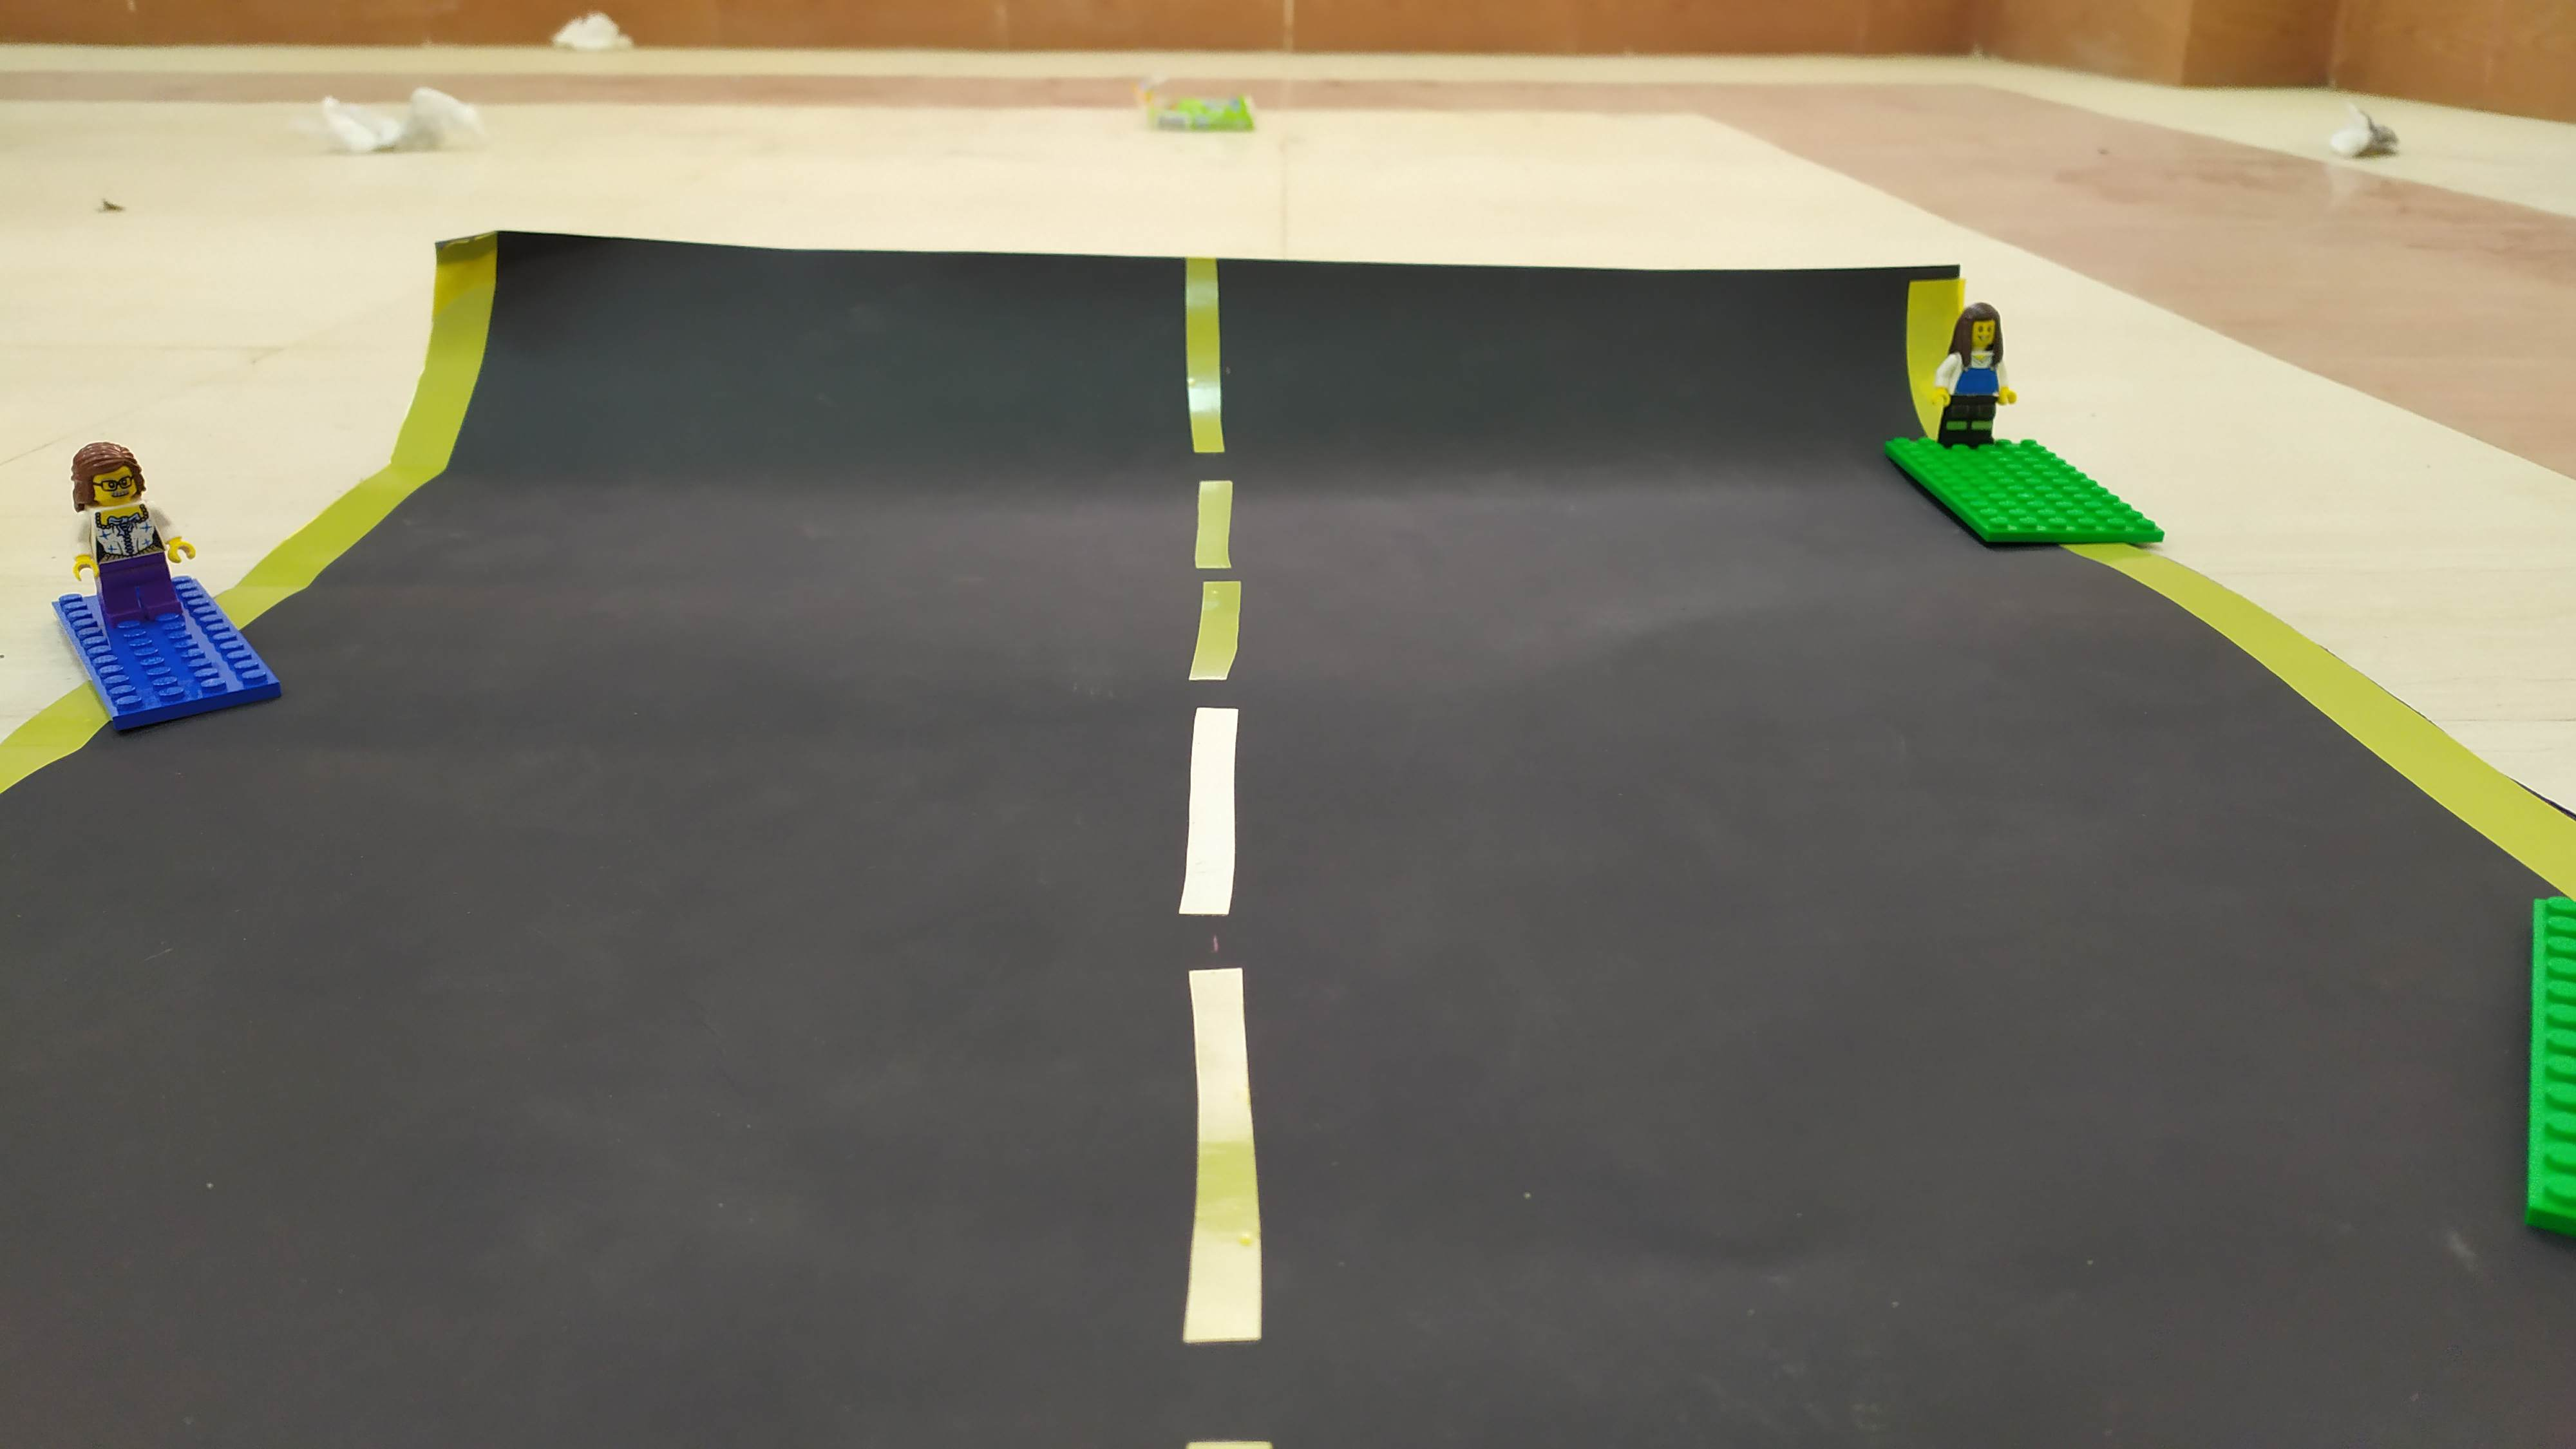Person: (61, 435, 209, 647), (1929, 280, 2032, 460)
